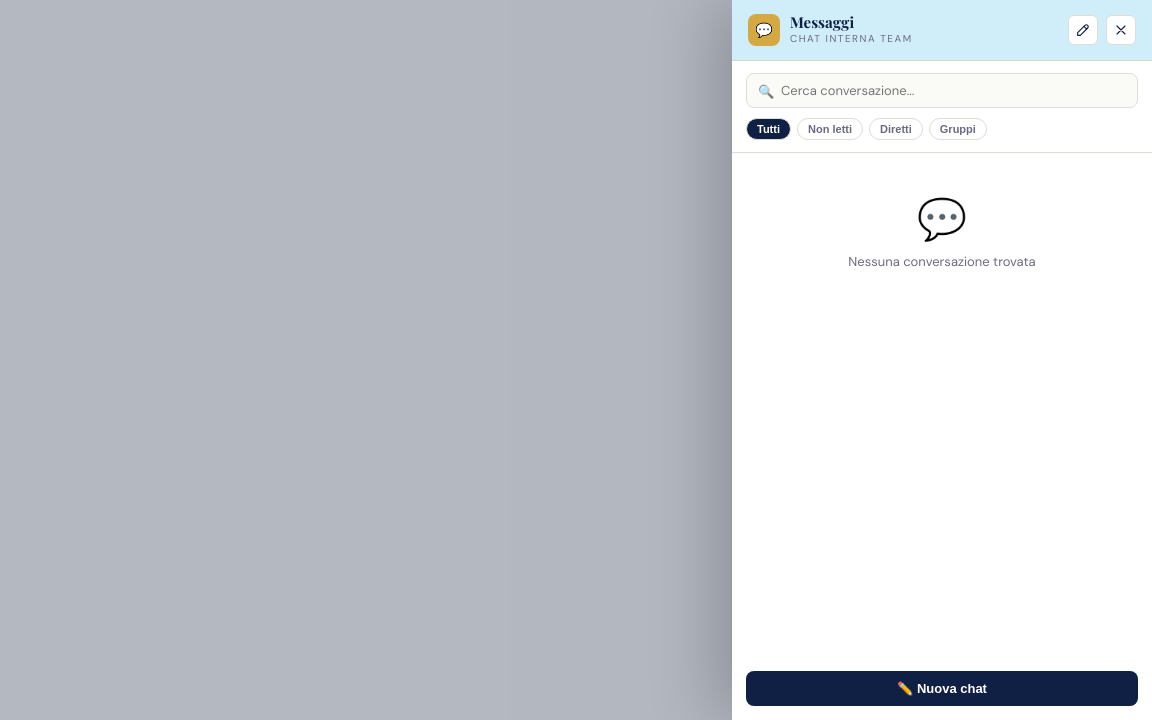
handleCreate — id conversazione normalizzato prima di ACTIVATE › gruppo nuovo: lista e vista attiva condividono lo stesso UUID, typing sottoscritto
This screenshot has width=1152, height=720.
// Nuova chat → Crea nuovo gruppo → nome + 2 membri → Crea gruppo
Click the button titled "Nuova chat — scrivi a un membro del team" at (1083, 30), box [1068,15,1098,45]
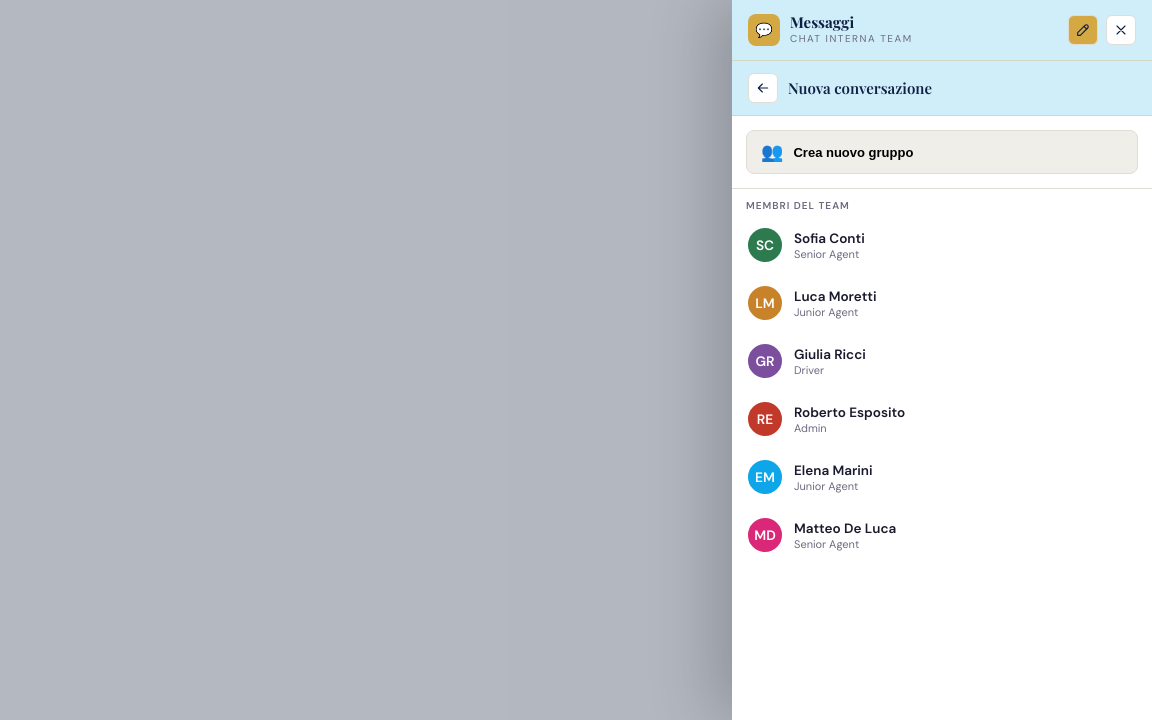
Click the button "👥 Crea nuovo gruppo" at (853, 152), box [746,130,1138,174]
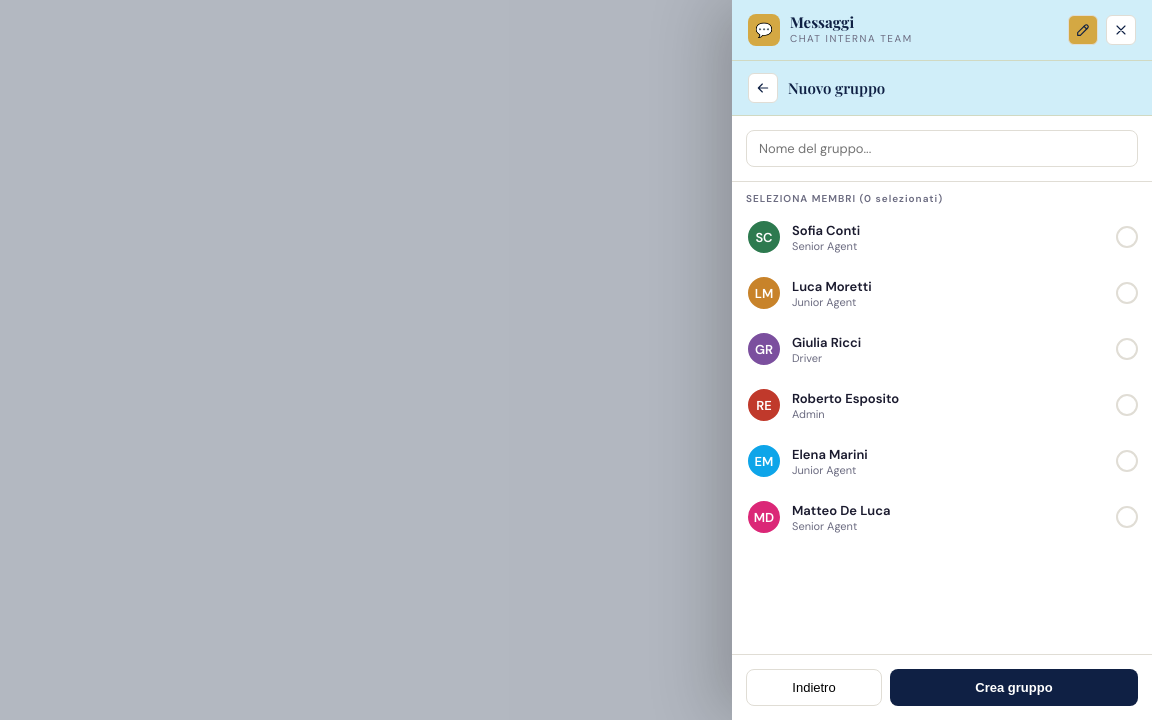
Type "Gruppo QA" into the field with placeholder "Nome del gruppo..." at (942, 148), box [746,130,1138,167]
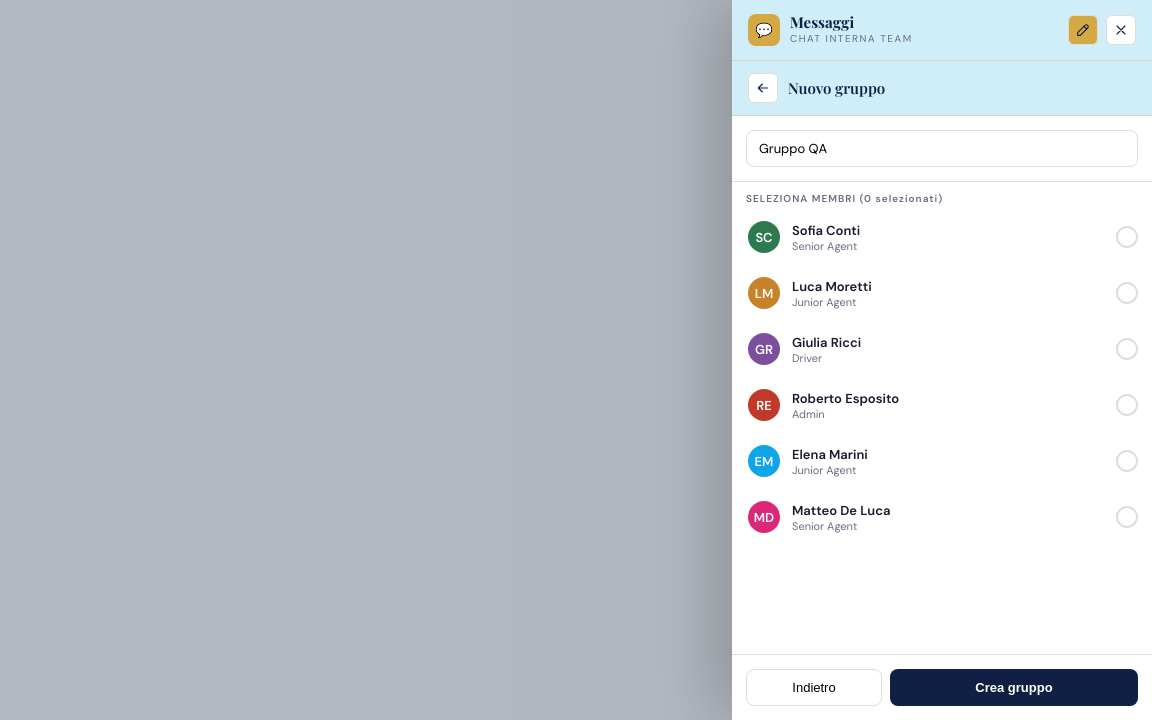
Click the text "Sofia Conti" at (826, 230), box [792,222,860,238]
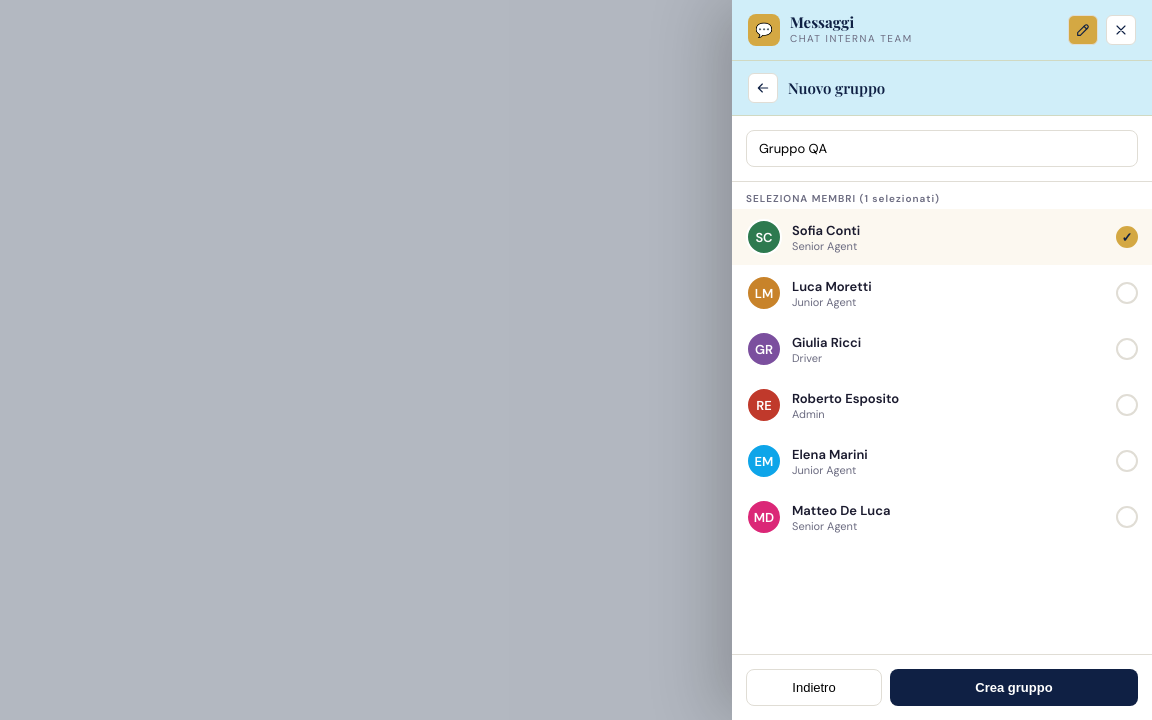
Click the text "Luca Moretti" at (832, 286), box [792,278,872,294]
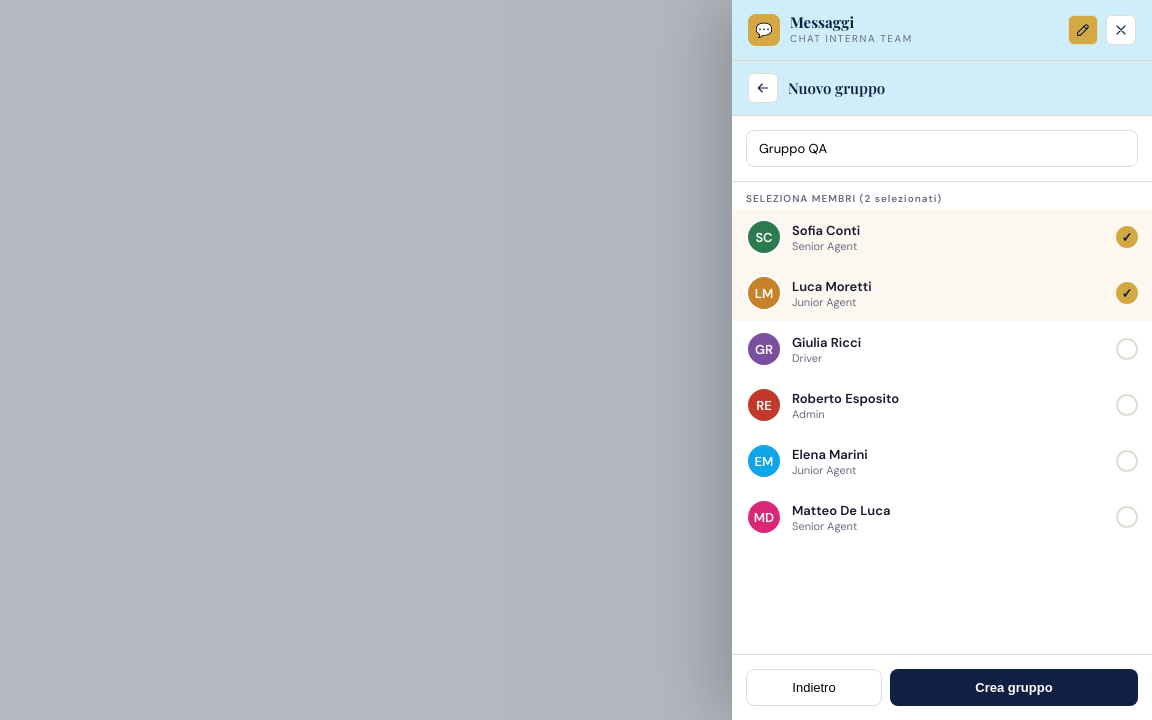
Click the button "Crea gruppo" at (1014, 688), box [890,669,1138,706]
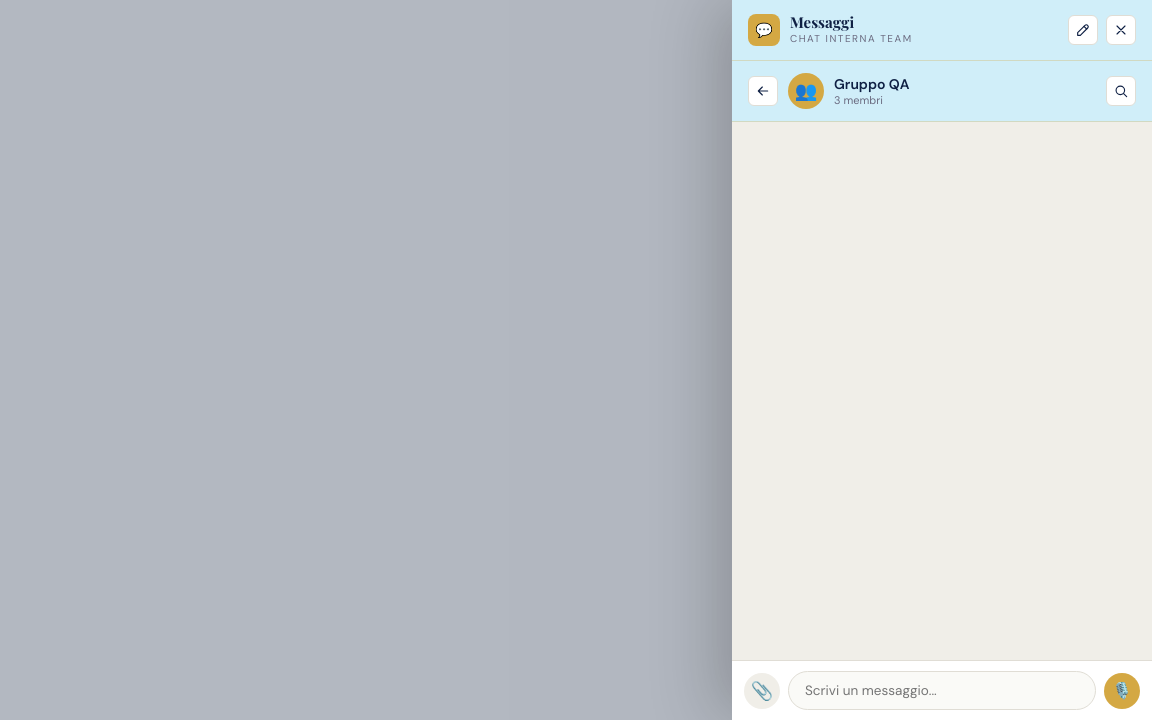
Result: the text "Gruppo QA" is shown at [834,75,910,93]
